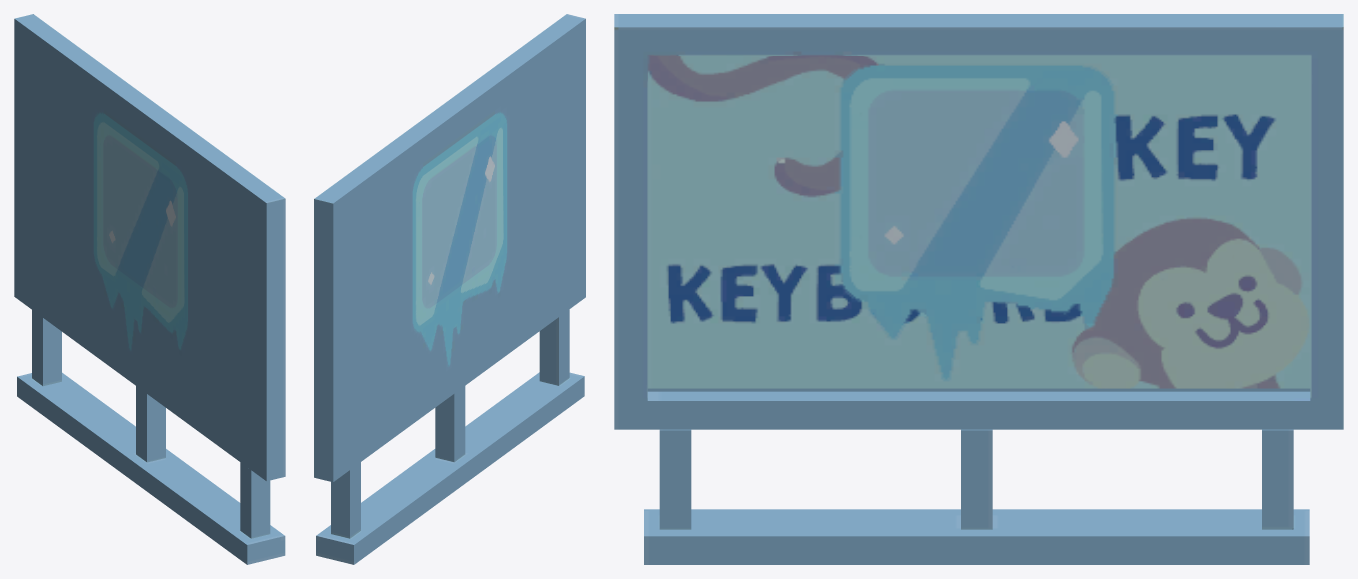
File: BillboardFreeze_Hovered.fbx
3 views of the same model, side by side, from view 1: azimuth 30°, elevation 25°; view 2: azimuth 150°, elevation 25°; view 3: azimuth 270°, elevation 25° (orthographic). The views are drawn at different scales.
Parts seen in each view (by area): view 1: Billboard; view 2: Billboard; view 3: Billboard.
Boxes of the visible parts, left/top/right/bottom form: Billboard: left=14, top=14, right=285, bottom=564; Billboard: left=314, top=14, right=585, bottom=564; Billboard: left=614, top=14, right=1343, bottom=564.
Bounding box in the file's own units: 20 × 185 × 230.
